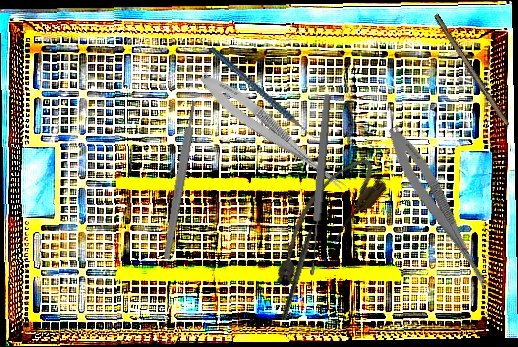Cannula: (253, 148, 394, 296)
Chopper: (210, 20, 327, 168), (280, 212, 325, 323)
Micro Scissor: (379, 121, 503, 298), (193, 66, 355, 197)
Scalpel Handle: (430, 13, 512, 128), (161, 99, 200, 261)
Surgical Spoon: (306, 92, 333, 277)
